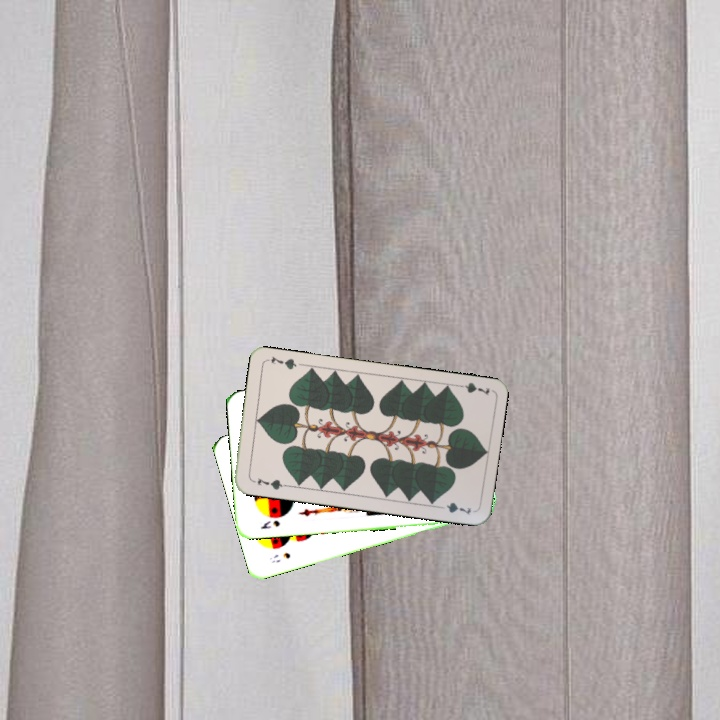G7: (451, 378, 492, 398), (248, 474, 289, 492)
S8: (265, 548, 293, 565)
SK: (257, 516, 282, 531)
